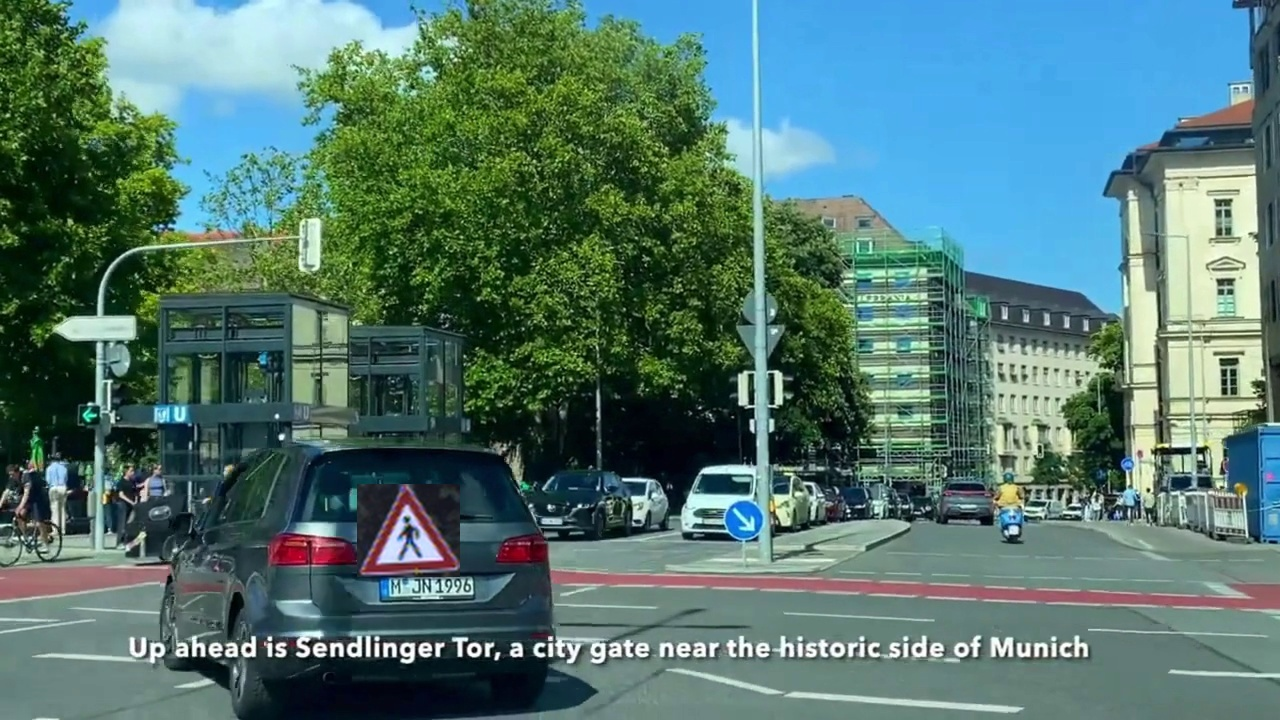Pedestrians: (357, 484, 460, 577)
